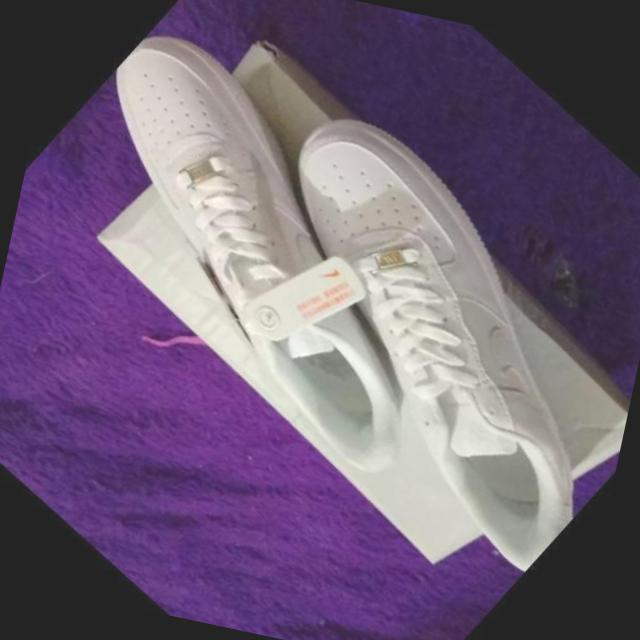nike_fake_airforce: (0, 0, 563, 510), (136, 64, 640, 589)
